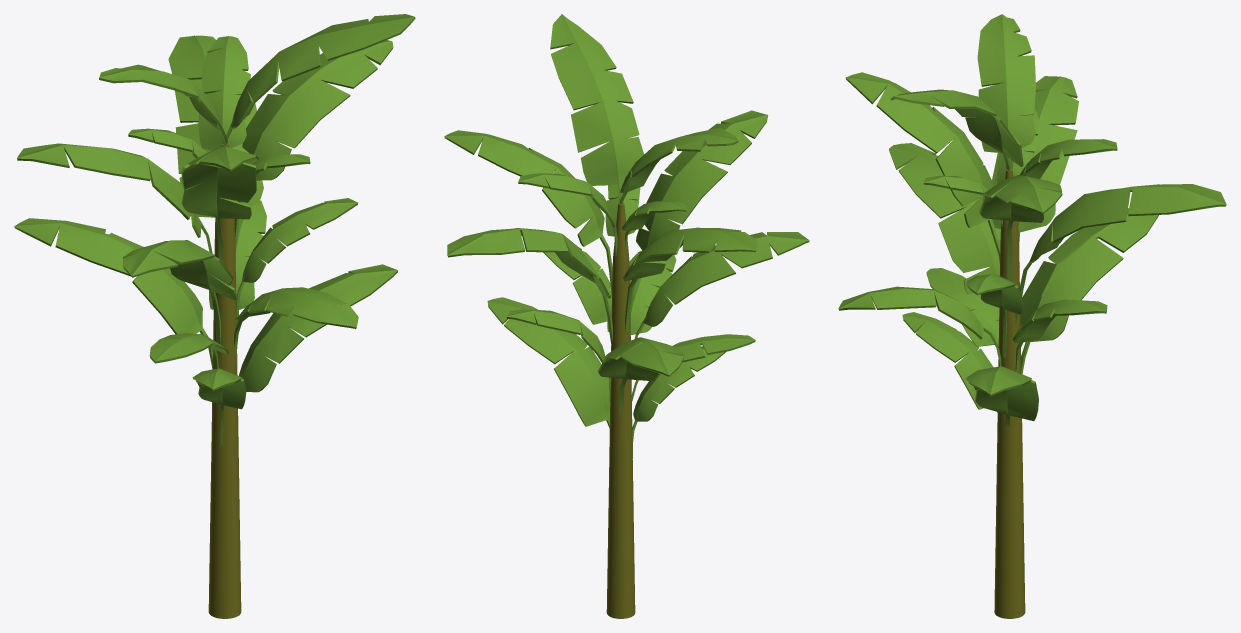
File: BananaTreeDefault.fbx
The picture shows the model from 3 angles, left to right: view 1: azimuth 30°, elevation 25°; view 2: azimuth 150°, elevation 25°; view 3: azimuth 270°, elevation 25°; orthographic projection. The views are drawn at different scales.
Parts seen in each view (by area): view 1: Leaves, Trunk; view 2: Leaves, Trunk; view 3: Leaves, Trunk.
Boxes of the visible parts, x1,y1,x2,y2 form: Leaves: (14,14,415,448); Trunk: (208,143,241,618); Leaves: (444,14,809,458); Trunk: (606,203,635,618); Leaves: (838,14,1226,426); Trunk: (994,169,1025,618).
Size of the model in its own units: 251 by 399 by 244.
